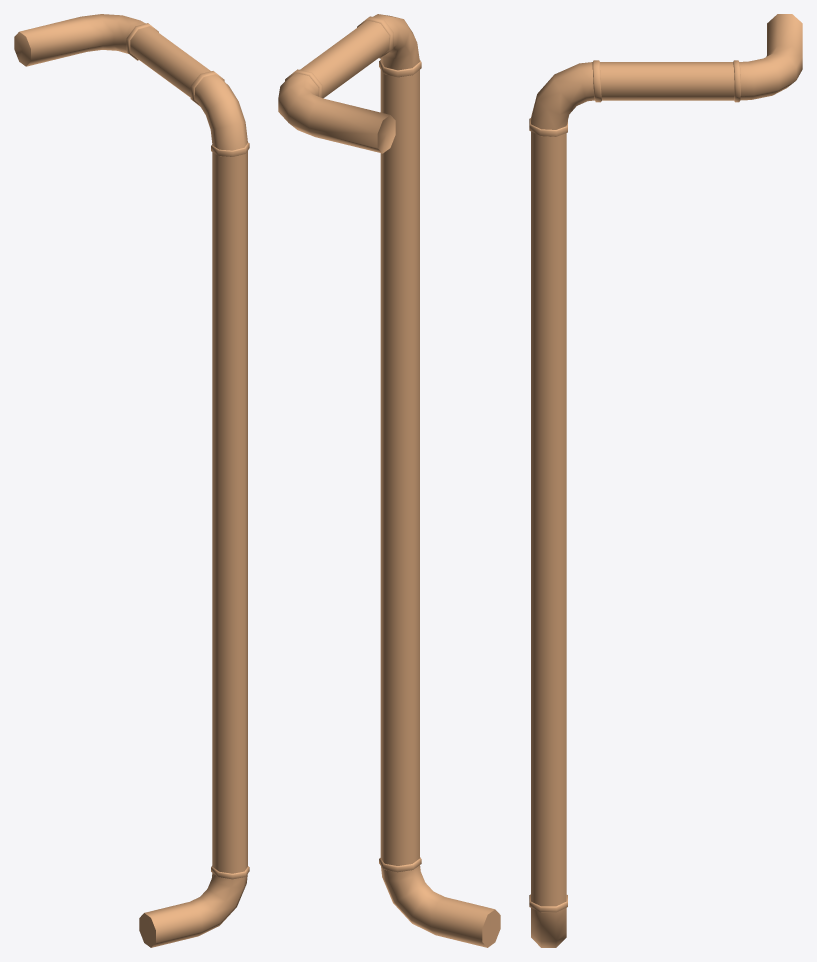
Rendered from SP_House06_Pipe02.fbx.
3 views of the same model, side by side, from view 1: azimuth 30°, elevation 25°; view 2: azimuth 150°, elevation 25°; view 3: azimuth 270°, elevation 25° (orthographic). The views are drawn at different scales.
Parts seen in each view (by area): view 1: SP_House06_Pipe02; view 2: SP_House06_Pipe02; view 3: SP_House06_Pipe02.
Boxes of the visible parts, box(x1,y1,x2,y2) form: SP_House06_Pipe02: box(14, 14, 249, 947); SP_House06_Pipe02: box(278, 14, 500, 947); SP_House06_Pipe02: box(529, 14, 802, 947).
Size of the model in its own units: 0.8717 by 6.15 by 1.7.
